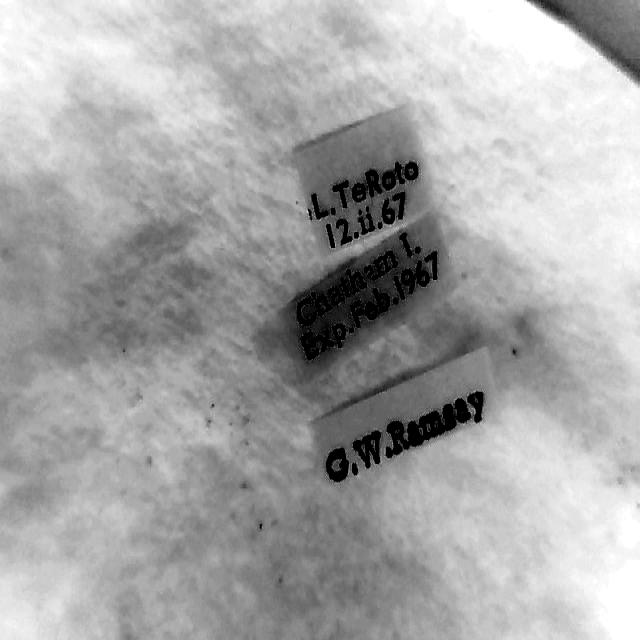typed_label: (279, 212, 455, 381), (312, 348, 498, 481), (295, 108, 429, 250)
